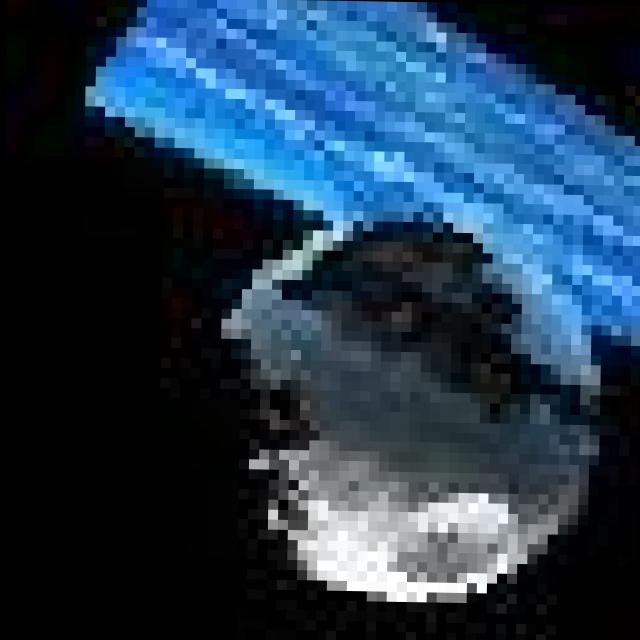Death Star: (209, 210, 607, 613)
